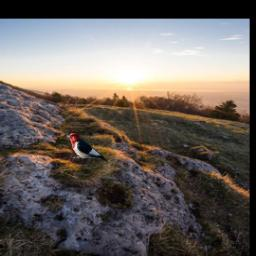Woodpecker: (61, 131, 108, 163)
